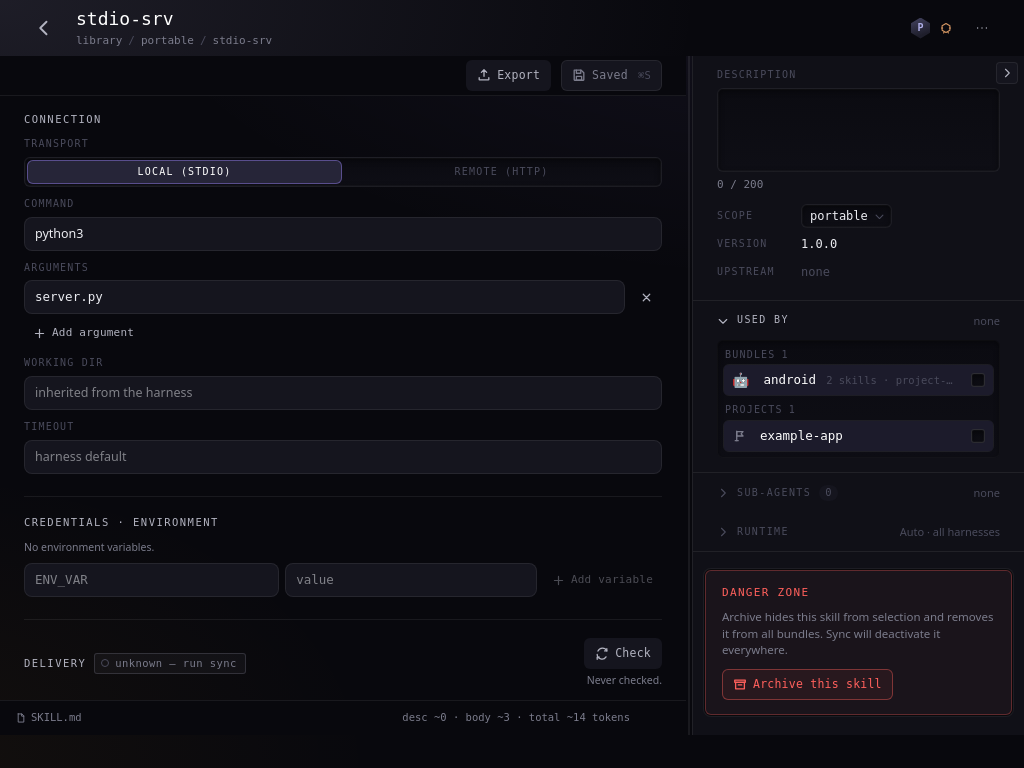
Test case: switching transport stdio→http preserves the command in the draft
Expected: the field showing "python3" below "command" is shown, top-left (24, 217), bottom-right (662, 251)
Click the radio button labelled "Remote (HTTP)".
click(502, 171)  # box top-left (455, 166), bottom-right (548, 177)
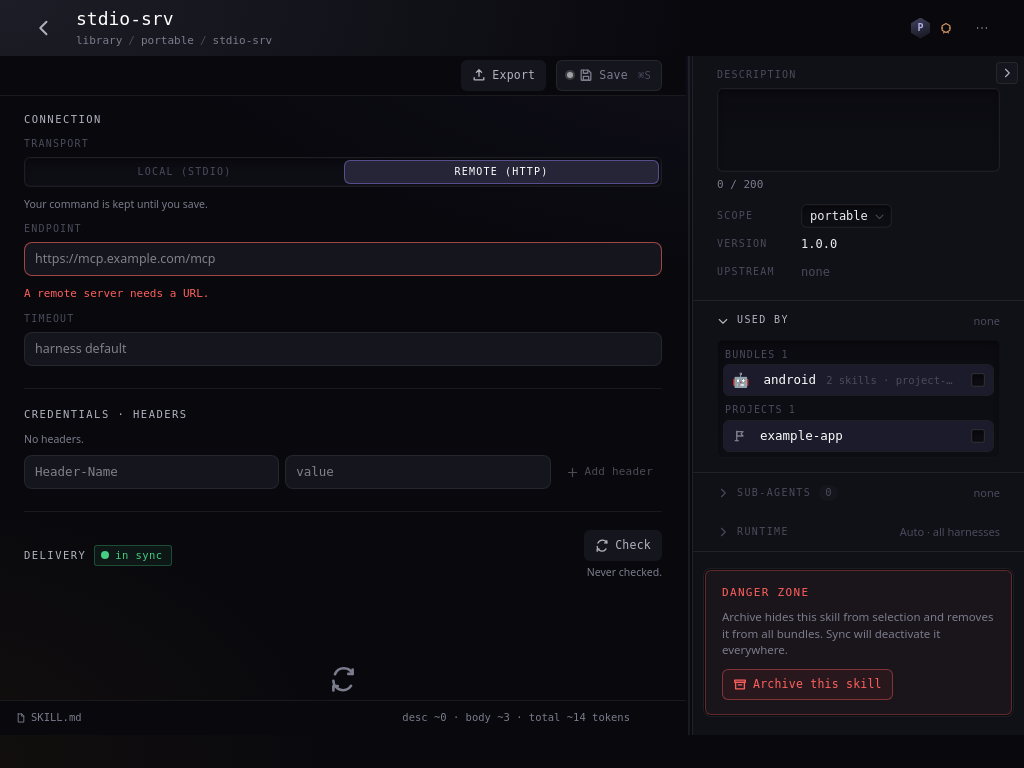
Now the text "Your command is kept until you save." is shown, box top-left (24, 197), bottom-right (208, 211)
Click the radio button labelled "Local (stdio)".
click(185, 171)  # box top-left (138, 166), bottom-right (232, 177)
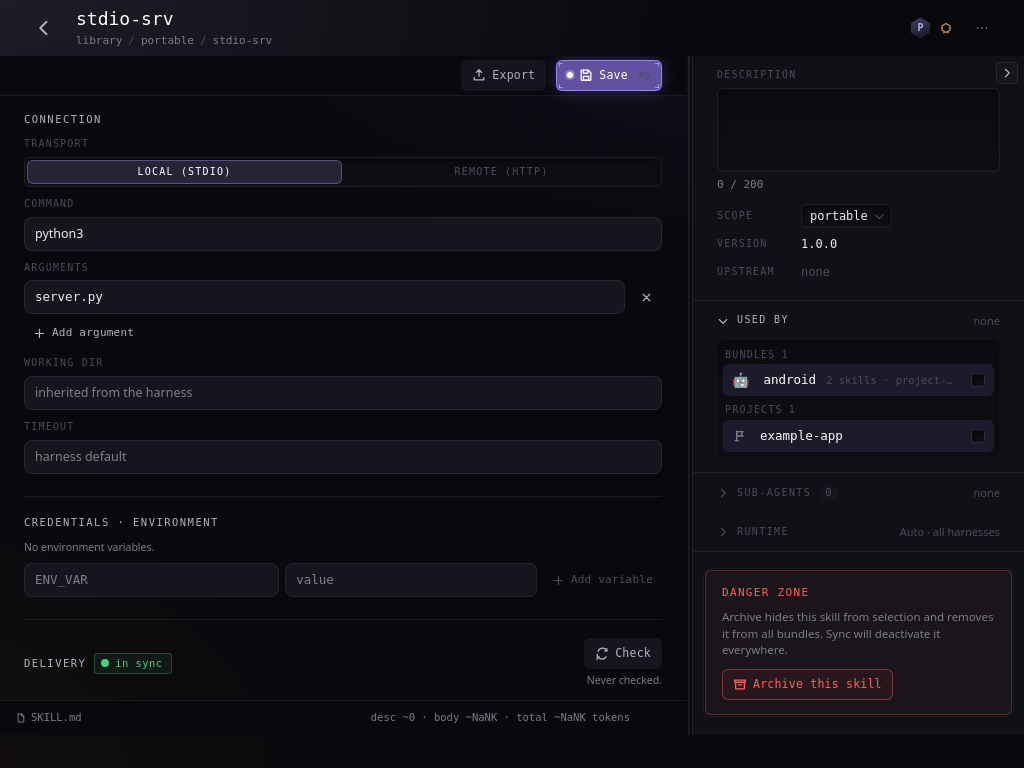
Now the field showing "python3" below "command" is shown, box top-left (24, 217), bottom-right (662, 251)
